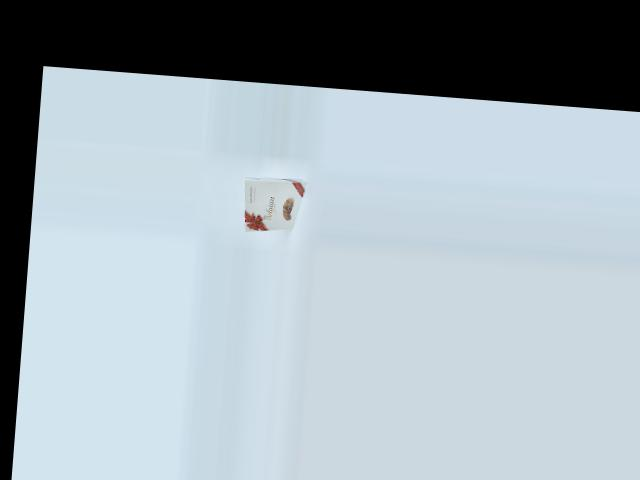chocolate: (242, 163, 310, 237)
